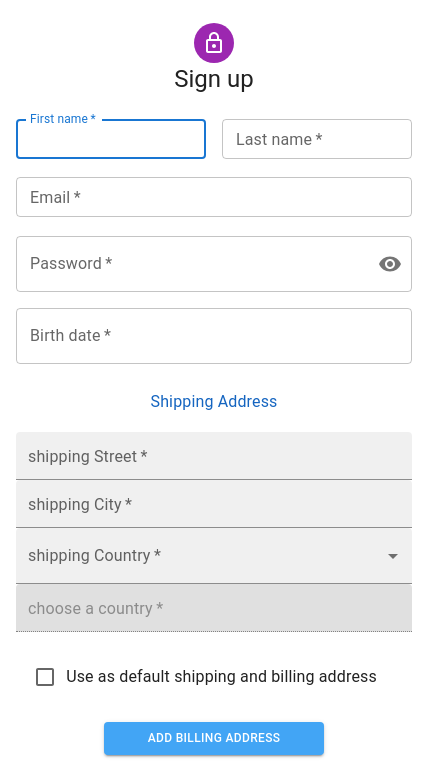
<RegistrationPage /> › Billing address fields open after button click
Click the button "Add billing address": {"x": 214, "y": 738} [104,722,324,755]
(page scrolled)
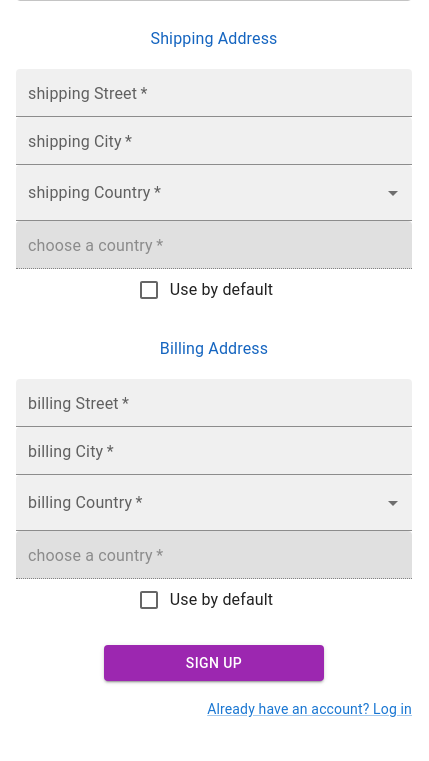
Expected: the element with test id "billingStreet" is shown, [16,379,412,427]
Expected: the element with test id "billingCity" is shown, [16,427,412,475]
Expected: the text "billing Country *" is shown, [28,491,143,514]
